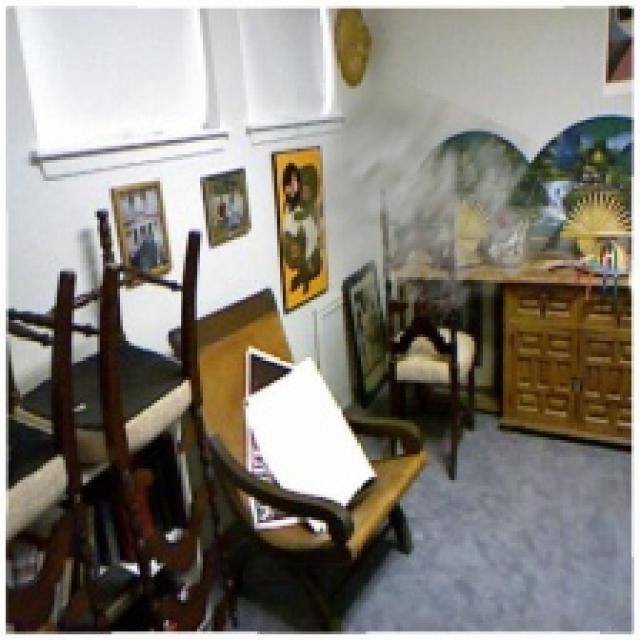smoke: (288, 71, 572, 323)
